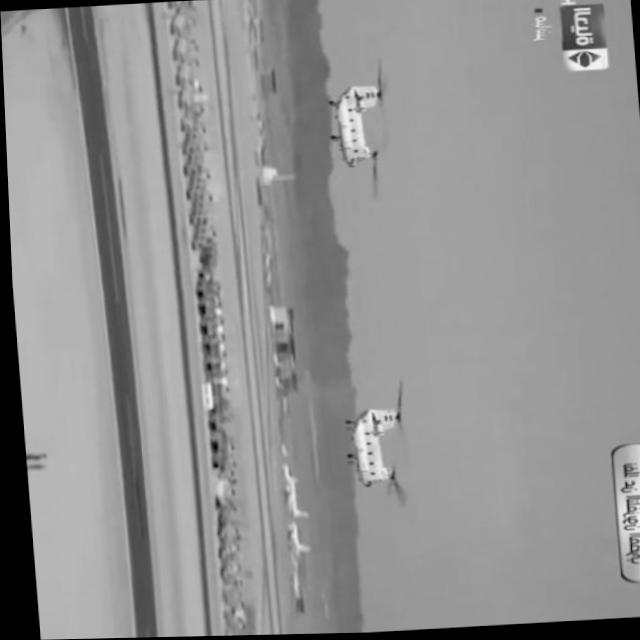helikopter: (292, 50, 412, 202), (316, 376, 422, 517)
